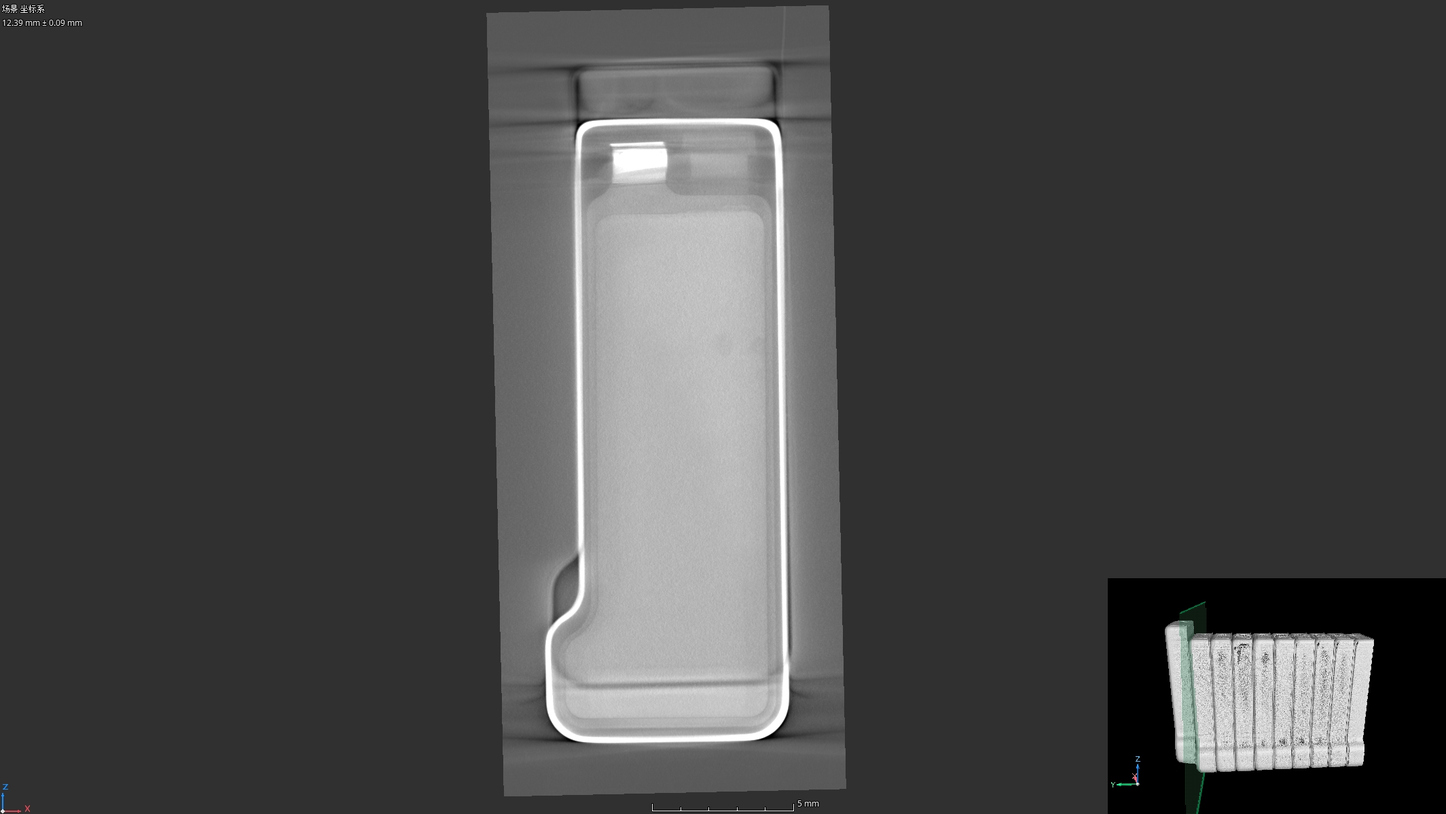dark: (714, 332, 735, 356)
